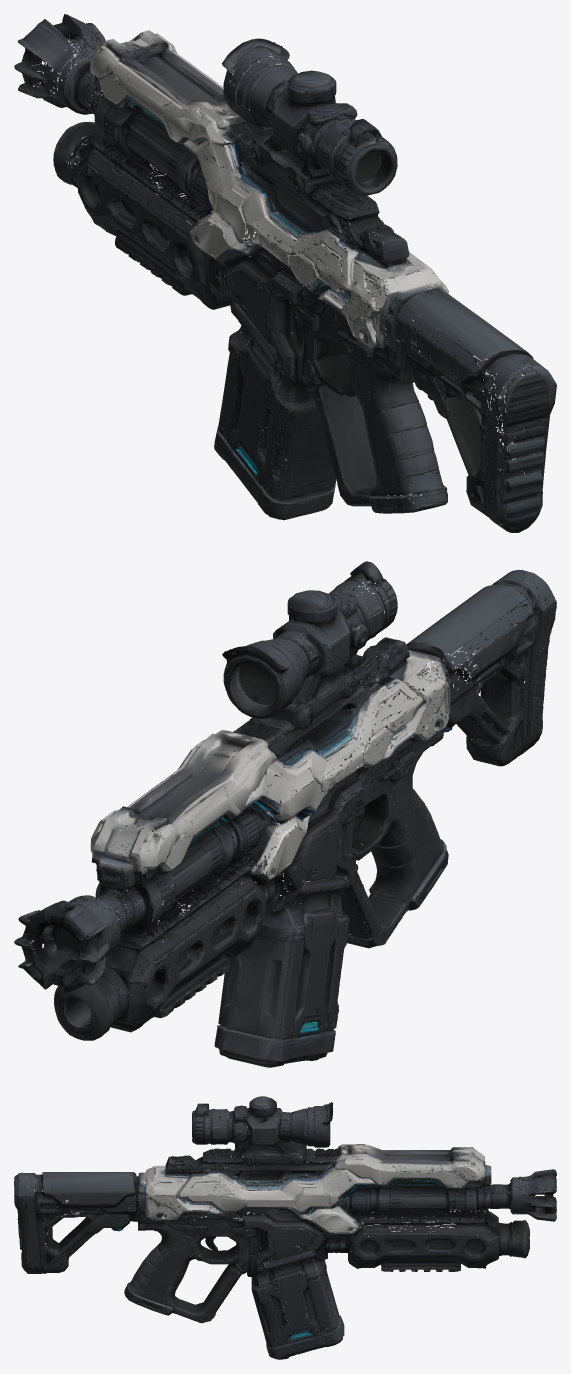
Rendered from em86b_viewmodel_intact_reload.glb.
3 views of the same model, one above another, from view 1: azimuth 30°, elevation 25°; view 2: azimuth 150°, elevation 25°; view 3: azimuth 270°, elevation 25° (orthographic). The views are drawn at different scales.
Parts seen in each view (by area): view 1: Body, DetachableMagazine; view 2: Body, DetachableMagazine; view 3: Body, DetachableMagazine.
Boxes of the visible parts, x1=… form: Body: x1=14, y1=14, x2=556, y2=532; DetachableMagazine: x1=214, y1=289, x2=336, y2=520; Body: x1=14, y1=561, x2=556, y2=1040; DetachableMagazine: x1=214, y1=856, x2=352, y2=1067; Body: x1=14, y1=1096, x2=556, y2=1323; DetachableMagazine: x1=241, y1=1237, x2=344, y2=1359.
Bounding box in the file's own units: 0.0953 × 0.4894 × 0.9502.
1 material, 1 textured.
